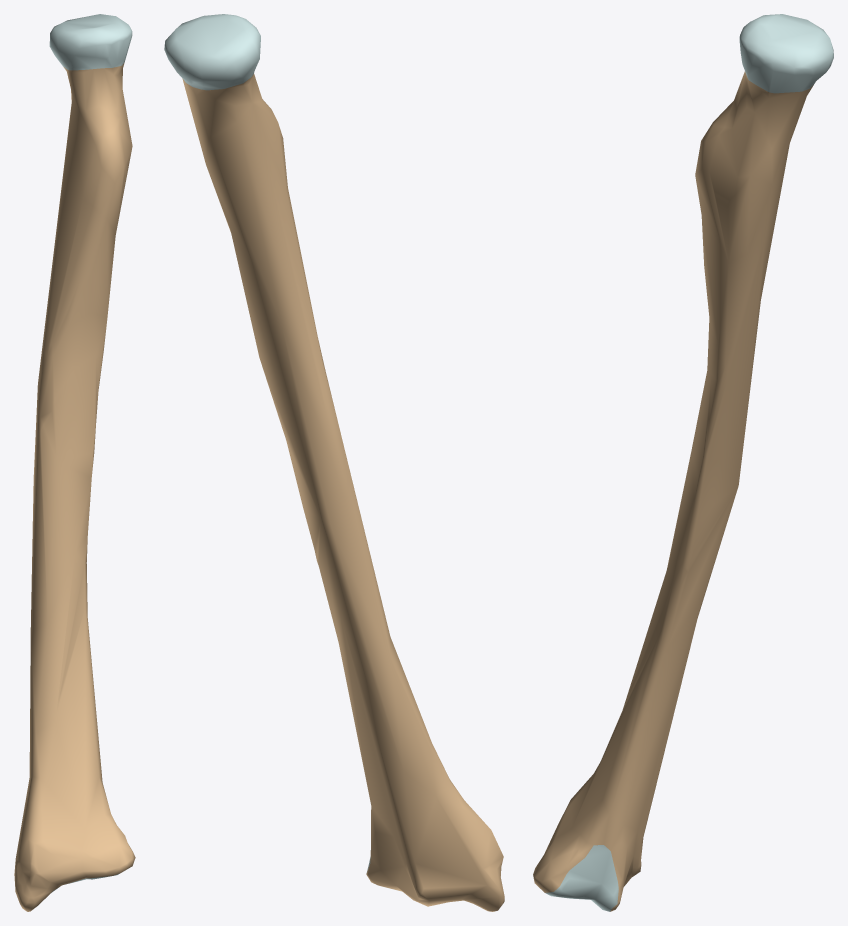
Rendered from Radius.r_Cone.014.glb.
The picture shows the model from 3 angles, left to right: view 1: azimuth 30°, elevation 25°; view 2: azimuth 150°, elevation 25°; view 3: azimuth 270°, elevation 25°; orthographic projection. The views are drawn at different scales.
Visible parts, largest first — view 1: Radius.r_Cone.014; view 2: Radius.r_Cone.014; view 3: Radius.r_Cone.014.
Part boxes in pixels (x1,y1,x2,y2): Radius.r_Cone.014: (14, 14, 135, 911); Radius.r_Cone.014: (164, 14, 504, 911); Radius.r_Cone.014: (533, 14, 833, 911).
Bounding box in the file's own units: 0.0618 × 0.237 × 0.0687.
